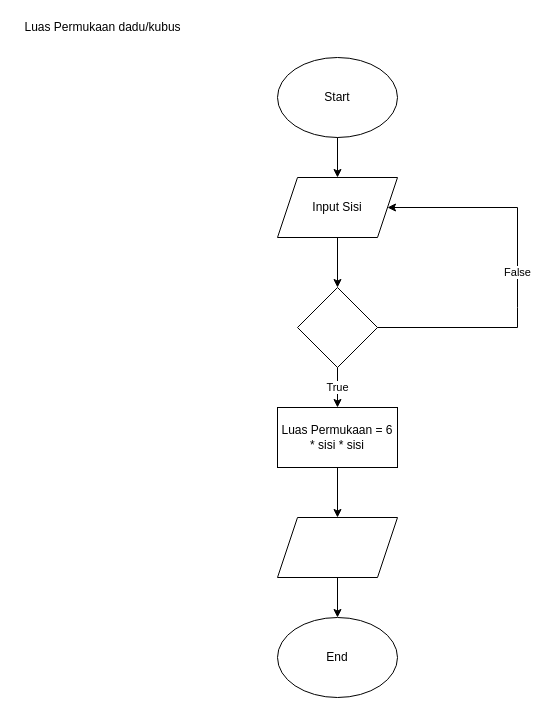
Image size: 548x715. Some labels were removed from this diagram. The shapes that lost their labels are listed below. From the top down, each one's centre as x and y in pixels, then its label:
(337,327): Sisi = adalah angka
(337,547): "Luas Permukaan"
